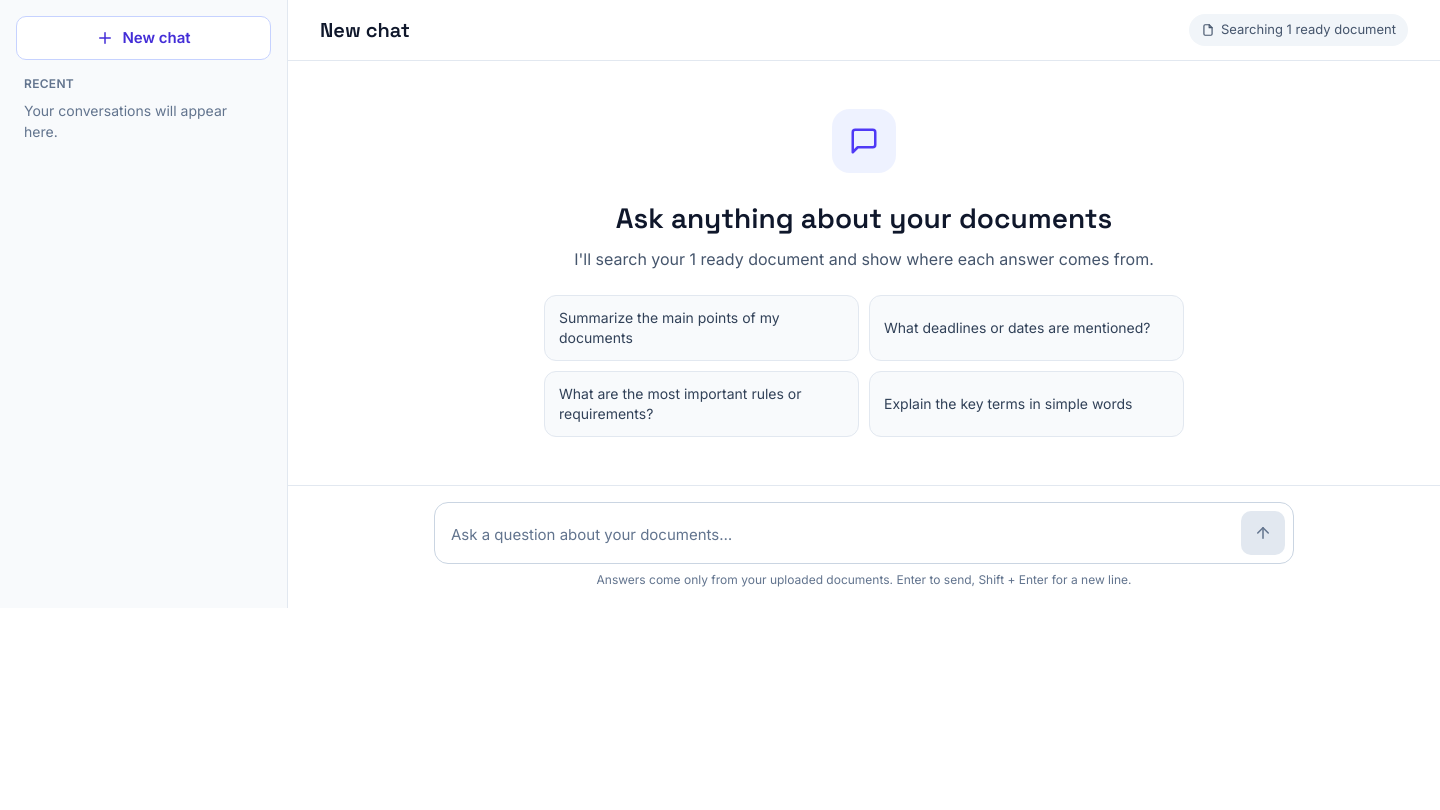
Test: ChatPage › shows the "not found" answer instead of a made-up one
The width and height of the screenshot is (1440, 810).
Type "What is the dress code?" into the text box named "Your question" at (841, 535), box [451,516,1231,554]
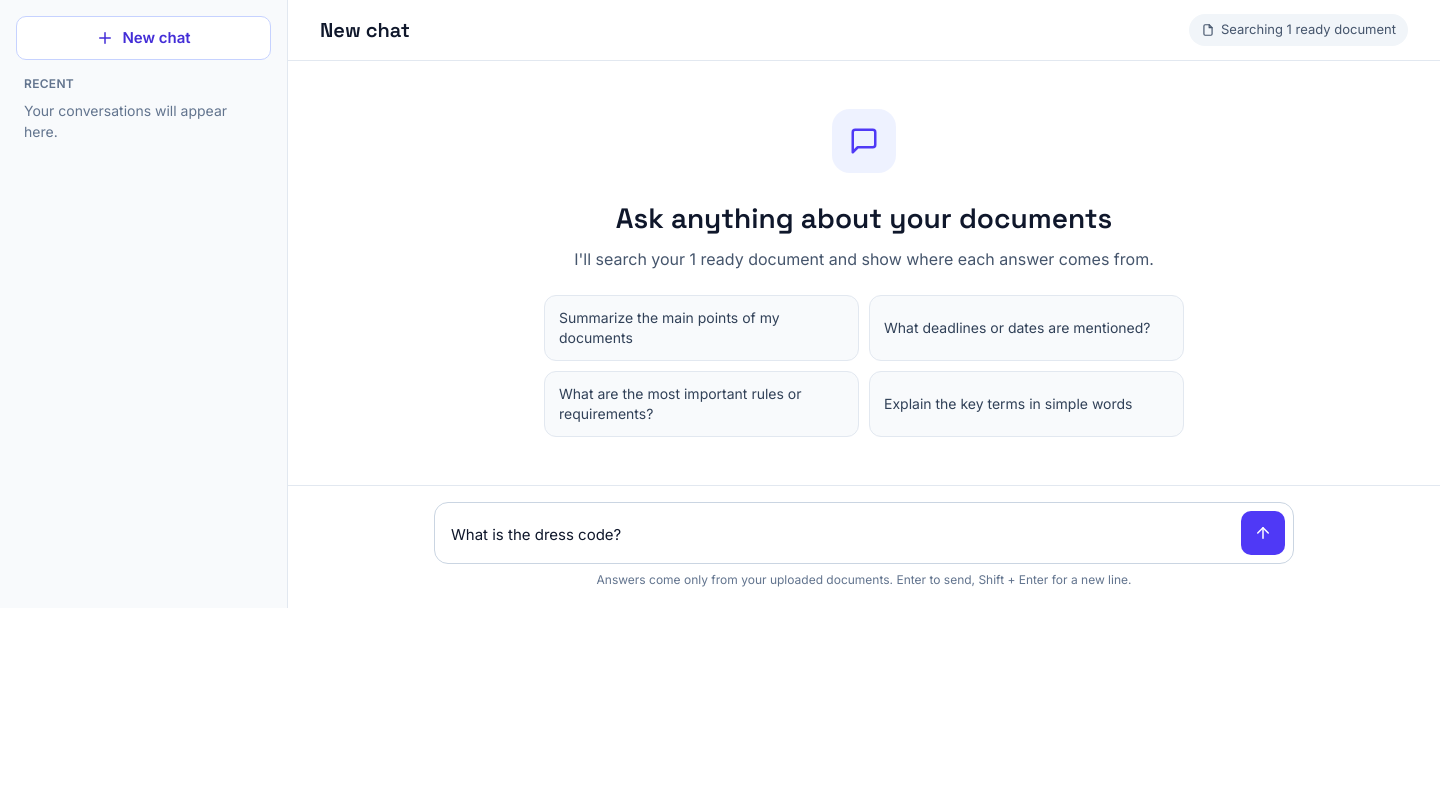
Press Enter in the text box named "Your question", box [451,516,1231,554]
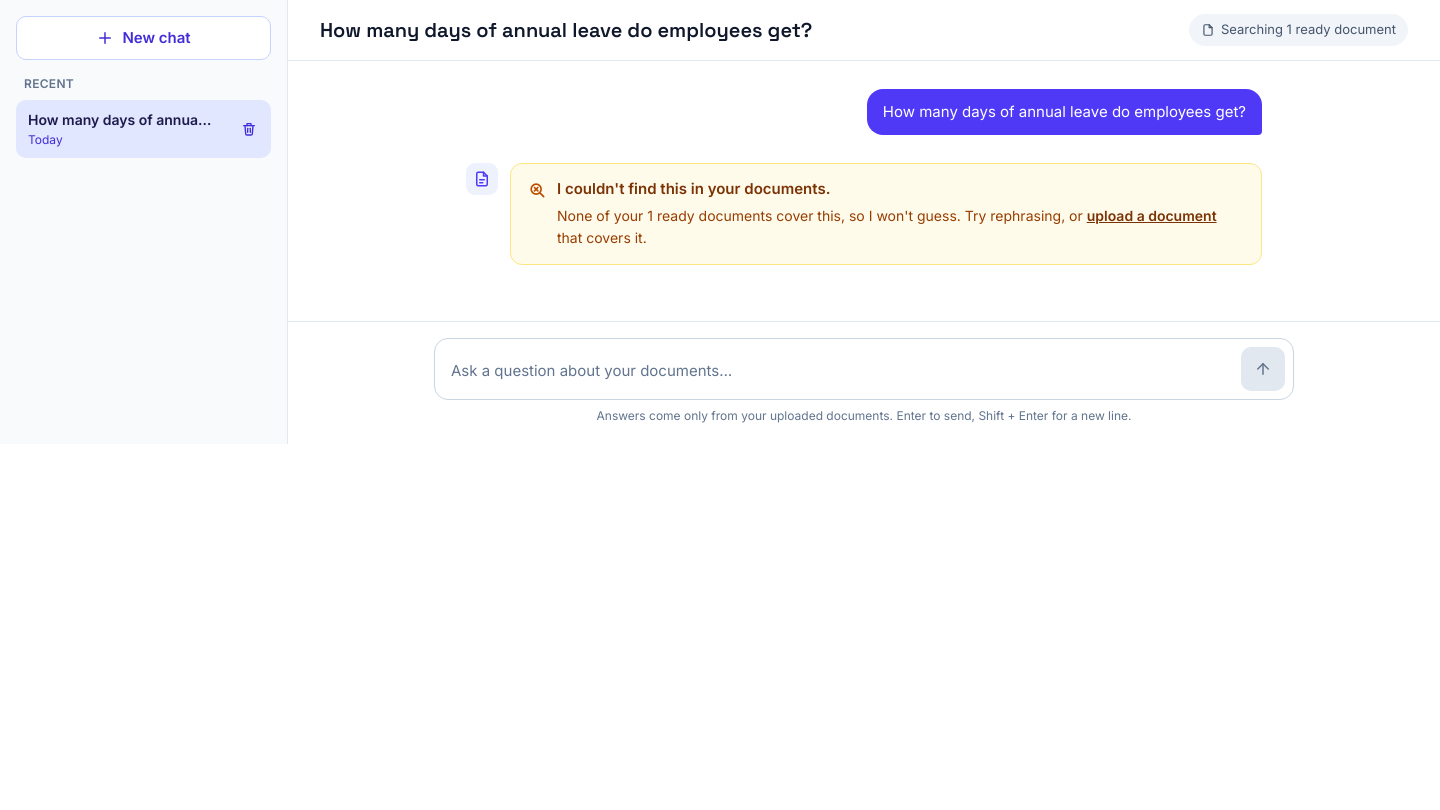
Expected: the text "I couldn't find this in your documents." is shown, [557,179,830,198]
